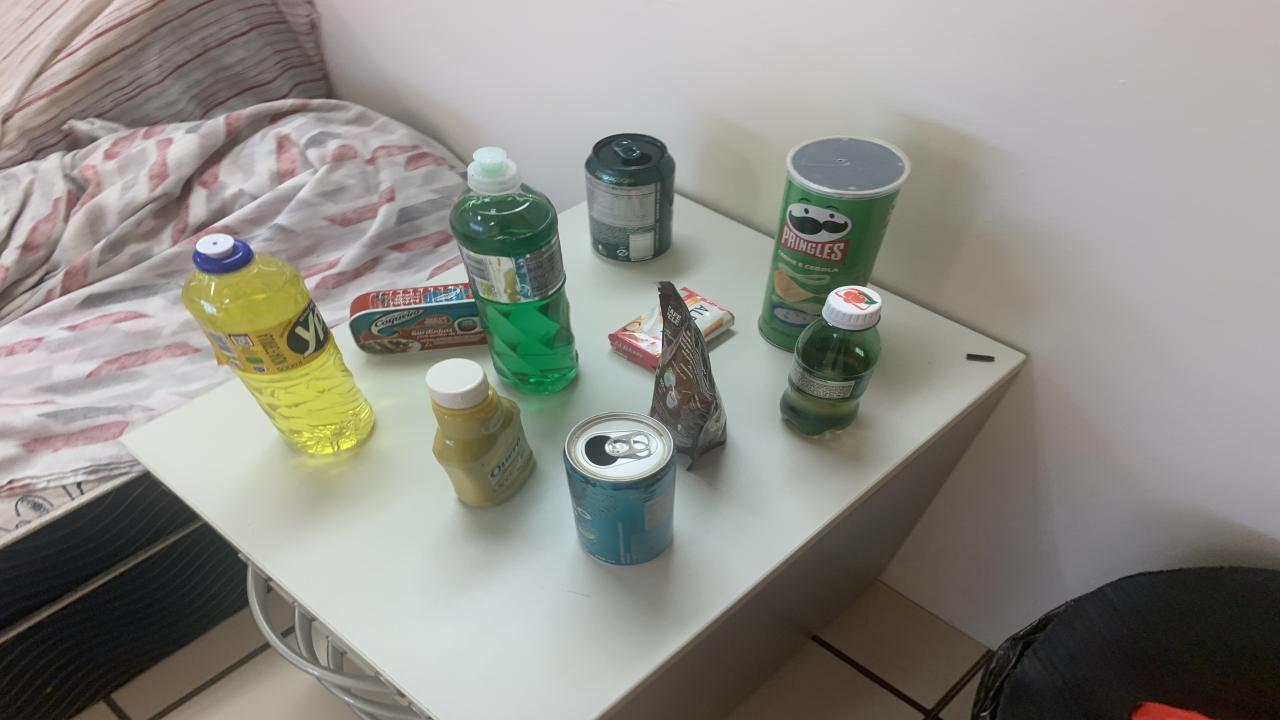Coffee-Pantry_Items: (650, 281, 728, 461)
Detergent-Cleanup_Items: (182, 234, 375, 454), (450, 146, 578, 394)
Guarana-Drinks: (780, 285, 882, 435)
Guarana_Can-Drinks: (585, 133, 675, 262)
Mustard-Pantry_Items: (425, 358, 535, 506)
Pringles-Snacks: (758, 137, 910, 351)
Soap-Cleanup_Items: (608, 308, 662, 371), (680, 289, 735, 339)
Tea-Drinks: (565, 411, 675, 564)
Tuna_Can-Pantry_Items: (350, 283, 485, 352)
